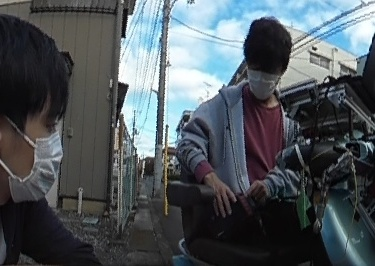person: (175, 13, 312, 256)
